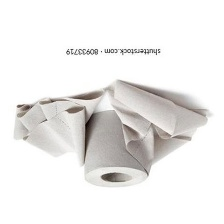tissue: (8, 73, 220, 194)
